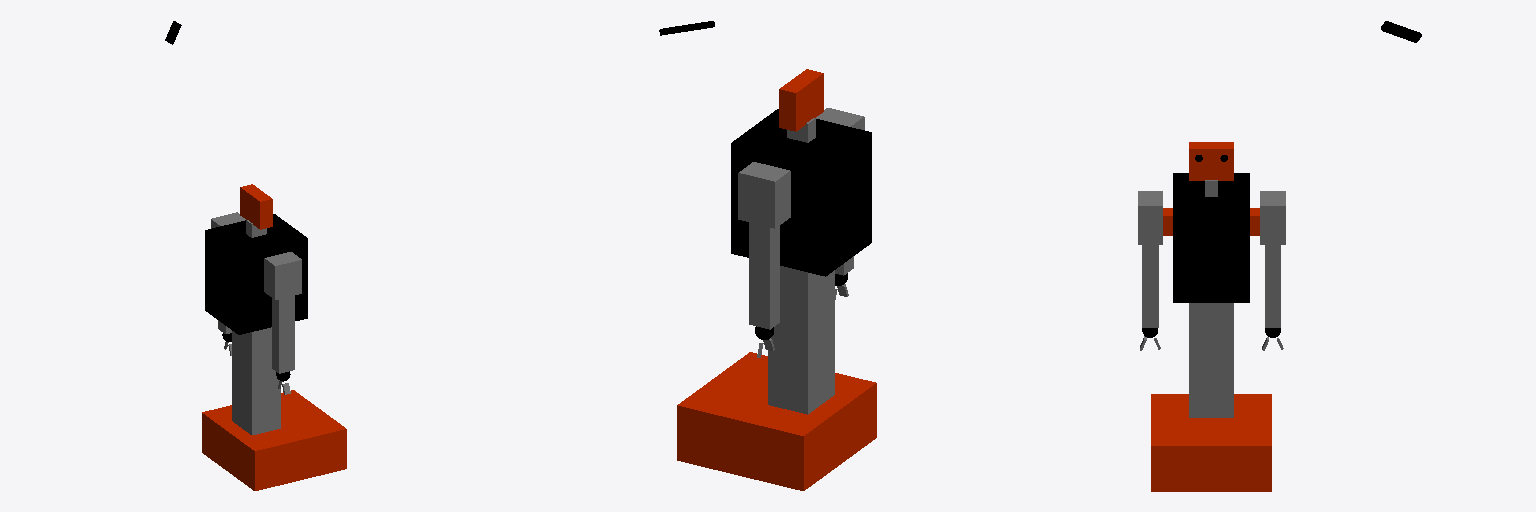
--- What the picture shows (computed from the rendered views, not written in the file) ---
3 views of the same robot in one strip: view 1: azimuth 30°, elevation 25°; view 2: azimuth 150°, elevation 25°; view 3: azimuth 270°, elevation 25° (orthographic).
Model tangy with 37 links and 36 joints (18 revolute, 18 fixed), rooted at base_link_robot, posed every joint at zero.
Links seen in each view (by area): view 1: base_link_robot, superior_link, base_torso, right_shoulder, head, lower_right_arm, upper_base_torso, upper_right_arm; view 2: base_link_robot, superior_link, base_torso, left_shoulder, head, lower_left_arm, upper_base_torso, upper_left_arm, right_shoulder; view 3: base_link_robot, superior_link, base_torso, head, left_shoulder, right_shoulder, upper_base_torso, lower_right_arm, lower_left_arm, upper_right_arm, upper_left_arm.
Link boxes in pixels (left/top/right/bottom): base_link_robot: left=202, top=390, right=346, bottom=490; superior_link: left=205, top=214, right=307, bottom=334; base_torso: left=232, top=341, right=280, bottom=434; right_shoulder: left=264, top=252, right=301, bottom=299; head: left=240, top=184, right=272, bottom=229; lower_right_arm: left=272, top=327, right=294, bottom=373; upper_base_torso: left=232, top=327, right=271, bottom=354; upper_right_arm: left=272, top=296, right=294, bottom=331; base_link_robot: left=677, top=352, right=876, bottom=490; superior_link: left=731, top=109, right=871, bottom=276; base_torso: left=768, top=285, right=834, bottom=414; left_shoulder: left=738, top=162, right=790, bottom=228; head: left=779, top=69, right=823, bottom=131; lower_left_arm: left=749, top=265, right=779, bottom=329; upper_base_torso: left=780, top=266, right=834, bottom=303; upper_left_arm: left=749, top=222, right=779, bottom=271; right_shoulder: left=816, top=108, right=864, bottom=129; base_link_robot: left=1151, top=394, right=1271, bottom=491; superior_link: left=1173, top=173, right=1249, bottom=302; base_torso: left=1189, top=326, right=1233, bottom=417; head: left=1189, top=142, right=1233, bottom=180; left_shoulder: left=1260, top=191, right=1285, bottom=244; right_shoulder: left=1138, top=191, right=1162, bottom=244; upper_base_torso: left=1189, top=303, right=1233, bottom=325; lower_right_arm: left=1142, top=280, right=1158, bottom=327; lower_left_arm: left=1265, top=280, right=1280, bottom=327; upper_right_arm: left=1142, top=245, right=1158, bottom=279; upper_left_arm: left=1265, top=245, right=1280, bottom=279.
Size in the robot's own frame: 0.513 by 1.13 by 1.87 metres.
Geometry: primitives only (box / cylinder / sphere), no mesh files.

The robot description file, URDF, robot "tangy":
<?xml version="1.0" ?>
<!-- =================================================================================== -->
<!-- |    This document was autogenerated by xacro from [local-path]/Documents/TangerineModel.urdf.xacro | -->
<!-- |    EDITING THIS FILE BY HAND IS NOT RECOMMENDED                                 | -->
<!-- =================================================================================== -->
<robot name="tangy" xmlns:xacro="http://www.ros.org/wiki/xacro" xmlns:controller="http://playerstage.sourceforge.net/gazebo/xmlschema/#controller" >
  <!-- .......................MACROS.................... -->
  <!-- ....................... END MACROS.................... -->
  <!--.................ROS_CONTROL PLUGIN........... -->
  <gazebo>
    <plugin name="gazebo_ros_control" filename="libgazebo_ros_control.so">
      <robotNamespace></robotNamespace>
      <robotSimType>gazebo_ros_control/DefaultRobotHWSim</robotSimType>
    </plugin>
  </gazebo>
  
  <!-- ................BASE................. -->
<!--  <link name="root_frame_dummy">
    <visual>
      <geometry>
        <box size="0 0 0"/>
      </geometry>
    </visual>
    <inertial>
      <mass value="0.001"/>
      <inertia ixx="0.00001" ixy="0" ixz="0" iyy="0.00001" iyz="0" izz="0.00001"/>
    </inertial>
    <origin xyz="0 0 0"/>
  </link>
  <joint name="root_frame_to_base_torso" type="planar">
    <limit effort="1000.0" lower="0" upper="0" velocity="0"/>
    <parent link="root_frame_dummy"/>
    <child link="base_link_robot"/>
    <origin xyz="0 0 .1"/>
  </joint>-->
  <link name="base_link_robot">
    <visual>
      <geometry>
        <box size="0.48 0.48 0.2"/>
      </geometry>
      <material name="orange">
        <color rgba=".8 .2 0 1"/>
      </material>
    </visual>
    <collision>
      <geometry>
        <cylinder length="0.18" radius="0.2"/>
      </geometry>
    </collision>
    <inertial>
      <mass value="25"/>
      <inertia ixx="1" ixy="0.0" ixz="0.0" iyy="1" iyz="0.0" izz="1"/>
    </inertial>
    <origin xyz="0 0 0"/>
  </link>
  <gazebo reference="base_link">
    <material>Gazebo/Red</material>
  </gazebo>
  <joint name="base_link_to_torso" type="fixed">
    <axis xyz="1 0 0"/>
    <limit effort="1000.0" lower="0" upper="0" velocity="0"/>
    <parent link="base_link_robot"/>
    <child link="base_torso"/>
    <origin xyz="-0.093 0 0.3"/>
  </joint>
  <link name="base_torso">
    <visual>
      <geometry>
        <box size="0.176 0.15 0.4"/>
      </geometry>
      <material name="grey">
        <color rgba="0.5 0.5 0.5 1"/>
      </material>
      <origin rpy="0 0 1.57075"/>
    </visual>
    <collision>
      <geometry>
        <cylinder length="0.38" radius="0.074"/>
      </geometry>
    </collision>
    <inertial>
      <mass value="15"/>
      <inertia ixx="1" ixy="0.0" ixz="0.0" iyy="1" iyz="0.0" izz="1"/>
    </inertial>
  </link>
  <gazebo reference="base_torso">
    <material>Gazebo/Red</material>
  </gazebo>
  <link name="upper_base_torso">
    <visual>
      <geometry>
        <box size="0.176 0.15 0.15"/>
      </geometry>
      <material name="grey"/>
    </visual>
    <collision>
      <geometry>
        <cylinder length="0.14" radius="0.074"/>
      </geometry>
    </collision>
    <inertial>
      <mass value="10"/>
      <inertia ixx="1.0" ixy="0.0" ixz="0.0" iyy="1.0" iyz="0.0" izz="1"/>
    </inertial>
  </link>
  <gazebo reference="upper_base_torso">
    <material>Gazebo/Gray</material>
  </gazebo>
  <joint name="torso_to_upper_base" type="fixed">
    <limit effort="1000.0" lower="0" upper="0" velocity="0"/>
    <parent link="base_torso"/>
    <child link="upper_base_torso"/>
    <origin rpy="0 0 -1.57075" xyz="0 0 0.275"/>
  </joint>
  <link name="superior_link">
    <visual>
      <geometry>
        <box size="0.305 0.360 0.4"/>
      </geometry>
      <material name="black">
        <color rgba="0 0 0 1"/>
      </material>
    </visual>
    <collision>
      <geometry>
        <cylinder length="0.38" radius="0.15"/>
      </geometry>
    </collision>
    <inertial>
      <mass value="10"/>
      <inertia ixx=".5" ixy="0.0" ixz="0.0" iyy=".5" iyz="0.0" izz=".5"/>
    </inertial>
  </link>
  <gazebo reference="superior_link">
    <material>Gazebo/Black</material>
  </gazebo>
  <joint name="upper_base_to_superior_link" type="fixed">
    <limit effort="1000.0" lower="0" upper="0" velocity="0"/>
    <parent link="upper_base_torso"/>
    <child link="superior_link"/>
    <origin xyz="0 0 0.275"/>
  </joint>
  <joint name="kinect_joint" type="fixed">
    <limit effort="1000.0" lower="0" upper="0" velocity="0"/>
    <parent link="superior_link"/>
    <child link="kinect"/>
    <origin rpy="-2.094394325 0 -0.698131701" xyz="-0.75 0 0.9"/>
  </joint>  
  <link name="kinect">
    <visual>
      <geometry>
        <box size="0.18 0.02 0.04"/>
      </geometry>
      <material name="grey">
        <color rgba="0 0 0 0.5"/>
      </material>
    </visual>
    <collision>
      <geometry>
        <box size="0.0001 0.0001 0.0001"/>
      </geometry>
    </collision>
    <inertial>
      <mass value="0.01"/>
      <inertia ixx=".0001" ixy="0.0" ixz="0.0" iyy=".0001" iyz="0.0" izz=".0001"/>
    </inertial>
  </link>
  <joint name="kinect_depth_joint" type="fixed">
    <limit effort="1000.0" lower="0" upper="0" velocity="0"/>
    <parent link="kinect"/>
    <child link="kinect_depth_frame"/>
    <origin rpy="0 0 0.104719755" xyz="0 0.01 0"/>  
  </joint>
  <link name="kinect_depth_frame" >
    <visual>
      <geometry>
        <box size="0.0001 0.0001 0.0001"/>
      </geometry>
      <material name="grey">
        <color rgba="0 0 0 0.5"/>
      </material>
    </visual>
    <collision>
      <geometry>
        <box size="0.0001 0.0001 0.0001"/>
      </geometry>
    </collision>
    <inertial>
      <mass value="0.01"/>
      <inertia ixx=".0001" ixy="0.0" ixz="0.0" iyy=".0001" iyz="0.0" izz=".0001"/>
    </inertial>
  </link>
  <joint name="kinect_optical_joint" type="fixed">
    <origin rpy="0 0.0 0" xyz="0 0.001 0"/>    
    <parent link="kinect_depth_frame"/>
    <child link="kinect_optical_frame"/>
  </joint>
  <link name="kinect_optical_frame" >
    <visual>
      <geometry>
        <box size="0.0001 0.0001 0.0001"/>
      </geometry>
      <material name="grey">
        <color rgba="0 0 0 0.5"/>
      </material>
    </visual>
    <collision>
      <geometry>
        <box size="0.0001 0.0001 0.0001"/>
      </geometry>
    </collision>
    <inertial>
      <mass value="0.01"/>
      <inertia ixx=".0001" ixy="0.0" ixz="0.0" iyy=".0001" iyz="0.0" izz=".0001"/>
    </inertial>
  </link>
    <gazebo reference="skeleton/openni_depth_frame">
    <sensor name="kinect_optical_frame" type="depth">
      <always_on>true</always_on>
      <update_rate>20</update_rate>
      <camera>
        <horizontal_fov>1.047</horizontal_fov>
        <image>
          <format>R8G8B8</format>
          <width>200</width>
          <height>200</height>
        </image>
        <clip>
          <near>0.5</near>
          <far>5</far>
        </clip>
      </camera>
      <plugin filename="libgazebo_ros_openni_kinect.so" name="skeleton/openni_depth_frame_rgb_link_controller">
        <alwaysOn>true</alwaysOn>
        <updateRate>20</updateRate>
        <cameraName>kinect</cameraName>
        <imageTopicName>/kinect_depth_frame/rgb/image_raw</imageTopicName>
        <cameraInfoTopicName>/kinect_depth_frame/rgb/camera_info</cameraInfoTopicName>
        <pointCloudTopicName>/kinect_depth_frame/depth_registered/points</pointCloudTopicName>
        <depthImageTopicName>/kinect_depth_frame/depth_registered/image</depthImageTopicName>
        <depthImageCameraInfoTopicName>kinect_depth_frame/depth_registered/camera_info</depthImageCameraInfoTopicName>
        <frameName>/kinect_optical_frame</frameName>
        <pointCloudCutoff>0.05</pointCloudCutoff>
        <hackBaseline>0.07</hackBaseline>
        <distortionK1>0.0</distortionK1>
        <distortionK2>0.0</distortionK2>
        <distortionK3>0.0</distortionK3>
        <distortionT1>0.0</distortionT1>
        <distortionT2>0.0</distortionT2>
      </plugin>
    </sensor>
    <material value="Gazebo/Red"/>
  </gazebo> 
  <!-- ................END BASE................. -->
  <!-- ................HEAD................. -->
  <link name="neck_link">
    <visual>
      <geometry>
        <box size="0.05 0.08 0.07"/>
      </geometry>
      <material name="grey"/>
    </visual>
    <collision>
      <geometry>
        <cylinder length="0.068" radius="0.024"/>
      </geometry>
    </collision>
    <inertial>
      <mass value="0.5"/>
      <inertia ixx=".0001" ixy="0.0" ixz="0.0" iyy=".0001" iyz="0.0" izz=".0001"/>
    </inertial>
  </link>
  <gazebo reference="neck_link">
    <material>Gazebo/Red</material>
  </gazebo>
  <joint name="superior_to_neck_link" type="fixed">
    <limit effort="1000.0" lower="0" upper="0" velocity="0"/>
    <parent link="superior_link"/>
    <child link="neck_link"/>
    <origin xyz="0 0 0.235"/>
  </joint>
  <link name="neck_z_revolute">
    <collision>
      <geometry>
        <cylinder length="0.01" radius="0.01"/>
      </geometry>
    </collision>
    <inertial>
      <mass value="0.01"/>
      <inertia ixx=".00001" ixy="0" ixz="0.0" iyy=".00001" iyz="0.0" izz=".00001"/>
    </inertial>
  </link>
  <joint name="neck_to_z_revolute" type="revolute">
    <axis xyz="0 0 1"/>
    <limit effort="10.0" lower="-0.7853" upper="0.7853" velocity="3"/>
    <parent link="neck_link"/>
    <child link="neck_z_revolute"/>
    <dynamics damping="1" friction="1000"/>
  </joint>
  <transmission name="neck_to_z_revolute_trans">
    <type>transmission_interface/SimpleTransmission</type>
    <joint name="neck_to_z_revolute"/>
    <actuator name="neck_to_z_revolute_motor">
      <hardwareInterface>EffortJointInterface</hardwareInterface>
      <mechanicalReduction>50</mechanicalReduction>
    </actuator>
  </transmission>
  <link name="neck_x_revolute">
    <collision>
      <geometry>
        <cylinder length="0.001" radius="0.001"/>
      </geometry>
    </collision>
    <inertial>
      <mass value="0.01"/>
      <inertia ixx=".00001" ixy="0.0" ixz="0.0" iyy=".00001" iyz="0.0" izz=".00001"/>
    </inertial>
  </link>
  <joint name="z_revolute_to_x_revolute" type="revolute">
    <axis xyz="1 0 0"/>
    <limit effort="10.0" lower="-0.3926" upper="0.3926" velocity="3"/>
    <parent link="neck_z_revolute"/>
    <child link="neck_x_revolute"/>
    <dynamics damping="1" friction="1000"/>
  </joint>
  <transmission name="z_revolute_to_x_revolute_trans">
    <type>transmission_interface/SimpleTransmission</type>
    <joint name="z_revolute_to_x_revolute"/>
    <actuator name="z_revolute_to_x_revolute_motor">
      <hardwareInterface>EffortJointInterface</hardwareInterface>
      <mechanicalReduction>50</mechanicalReduction>
    </actuator>
  </transmission>
  <link name="head">
    <visual>
      <geometry>
        <box size="0.18 0.065 0.14"/>
      </geometry>
      <material name="orange"/>
    </visual>
    <collision>
      <geometry>
        <box size="0.16 0.05 0.12"/>
      </geometry>
    </collision>
    <inertial>
      <mass value="2"/>
      <inertia ixx="0.03" ixy="0.0" ixz="0.0" iyy="0.08" iyz="0.0" izz="0.05"/>
    </inertial>
  </link>
  <gazebo reference="head">
    <material>Gazebo/Red</material>
  </gazebo>
  <joint name="revolute_head" type="fixed">
    <limit effort="1000.0" lower="0" upper="0" velocity="0"/>
    <parent link="neck_x_revolute"/>
    <child link="head"/>
    <origin xyz="0 0 0.1"/>
  </joint>
  <link name="right_eye">
    <visual>
      <geometry>
        <cylinder length="0.015" radius="0.015"/>
      </geometry>
      <material name="black"/>
      <origin rpy="-1.57075 0 0"/>
    </visual>
    <collision>
      <geometry>
        <cylinder length="0.013" radius="0.005"/>
      </geometry>
    </collision>
    <inertial>
      <mass value="0.2"/>
      <inertia ixx=".000001" ixy="0.0" ixz="0.0" iyy="0" iyz="0.0" izz=".000001"/>
    </inertial>
  </link>
  <joint name="right_eye_to_head" type="fixed">
    <limit effort="1000.0" lower="0" upper="0" velocity="0"/>
    <parent link="head"/>
    <child link="right_eye"/>
    <origin xyz="0.05 0.03 0.03"/>
  </joint>
  <link name="left_eye">
    <visual>
      <geometry>
        <cylinder length="0.015" radius="0.015"/>
      </geometry>
      <material name="black"/>
      <origin rpy="-1.57075 0 0"/>
    </visual>
    <collision>
      <geometry>
        <cylinder length="0.013" radius="0.005"/>
      </geometry>
    </collision>
    <inertial>
      <mass value="0.2"/>
      <inertia ixx=".000001" ixy="0.0" ixz="0.0" iyy="0" iyz="0.0" izz=".000001"/>
    </inertial>
  </link>
  <joint name="left_eye_to_head" type="fixed">
    <limit effort="1000.0" lower="0" upper="0" velocity="0"/>
    <parent link="head"/>
    <child link="left_eye"/>
    <origin xyz="-0.05 0.03 0.03"/>
  </joint> 
  <!-- ................END HEAD................. -->
  <!-- ................RIGHT ARM................. -->
  <link name="right_shoulder_link">
    <visual>
      <geometry>
        <box size="0.04 0.07 0.09"/>
      </geometry>
      <material name="orange"/>
    </visual>
    <collision>
      <geometry>
        <cylinder length="0.10" radius="0.035"/>
      </geometry>
    </collision>
    <inertial>
      <mass value=".5"/>
      <inertia ixx=".001" ixy="0.0" ixz="0.0" iyy=".001" iyz="0.0" izz=".0005"/>
    </inertial>
  </link>
  <gazebo reference="right_shoulder_link">
    <material>Gazebo/Gray</material>
  </gazebo>
  <joint name="superior_link_to_right_shoulder_link" type="fixed">
    <axis xyz="1 0 0"/>
    <limit effort="100.0" lower="-3.142" upper="3.142" velocity="1"/>
    <parent link="superior_link"/>
    <child link="right_shoulder_link"/>
    <origin xyz="0.1725 0 0.07"/>
    <dynamics damping="1.5" friction="1000"/>
  </joint>
  <link name="right_shoulder">
    <visual>
      <geometry>
        <box size="0.10 0.14 0.17"/>
      </geometry>
      <material name="grey"/>
    </visual>
    <collision>
      <geometry>
        <cylinder length="0.10" radius="0.04"/>
      </geometry>
    </collision>
    <inertial>
      <mass value="1"/>
      <inertia ixx=".001" ixy="0.0" ixz="0.0" iyy=".001" iyz="0.0" izz=".0008"/>
    </inertial>
  </link>
  <gazebo reference="right_shoulder">
    <material>Gazebo/Gray</material>
  </gazebo>
  <joint name="right_shoulder_x_revolute" type="revolute">
    <axis xyz="1 0 0"/>
    <limit effort="100" lower="-0.34907" upper="3.35103" velocity="3"/>
    <parent link="right_shoulder_link"/>
    <child link="right_shoulder"/>
    <origin xyz="0.07 0 0.02"/>
    <dynamics damping="1" friction="1000"/>
  </joint>
  <transmission name="right_shoulder_x_revolute_trans">
    <type>transmission_interface/SimpleTransmission</type>
    <joint name="right_shoulder_x_revolute"/>
    <actuator name="right_shoulder_x_revolute_motor">
      <hardwareInterface>EffortJointInterface</hardwareInterface>
      <mechanicalReduction>50</mechanicalReduction>
    </actuator>
  </transmission>
  <link name="upper_right_arm_z_revolute">
    <collision>
      <geometry>
        <cylinder length="0.01" radius="0.01"/>
      </geometry>
    </collision>
    <inertial>
      <mass value="0.01"/>
      <inertia ixx=".000001" ixy="0.0" ixz="0.0" iyy=".000001" iyz="0.0" izz=".000001"/>
    </inertial>
  </link>
  <joint name="upper_right_arm_z_revolute_joint" type="revolute">
    <axis xyz="0 0 -1"/>
    <limit effort="100" lower="-1.8326" upper="1.8326" velocity="3"/>
    <parent link="upper_right_arm_y_revolute"/>
    <child link="upper_right_arm_z_revolute"/>
    <origin xyz="0 0 0"/>
    <dynamics damping="1" friction="1000"/>
  </joint>
  <transmission name="upper_right_arm_z_revolute_joint_trans">
    <type>transmission_interface/SimpleTransmission</type>
    <joint name="upper_right_arm_z_revolute_joint"/>
    <actuator name="upper_right_arm_z_revolute_motor">
      <hardwareInterface>EffortJointInterface</hardwareInterface>
      <mechanicalReduction>50</mechanicalReduction>
    </actuator>
  </transmission>
  <link name="upper_right_arm_y_revolute">
    <collision>
      <geometry>
        <cylinder length="0.01" radius="0.01"/>
      </geometry>
    </collision>
    <inertial>
      <mass value="0.01"/>
      <inertia ixx=".000001" ixy="0.0" ixz="0.0" iyy=".000001" iyz="0.0" izz=".000001"/>
    </inertial>
  </link>
  <joint name="upper_right_arm_y_revolute_joint" type="revolute">
    <axis xyz="0 1 0"/>
    <limit effort="75.0" lower="-1.9199" upper="0.08727" velocity="3"/>
    <parent link="right_shoulder"/>
    <child link="upper_right_arm_y_revolute"/>
    <origin xyz="0 0 0"/>
    <dynamics damping="1" friction="1000"/>   
  </joint>
  <transmission name="upper_right_arm_y_revolute_joint_trans">
    <type>transmission_interface/SimpleTransmission</type>
    <joint name="upper_right_arm_y_revolute_joint"/>
    <actuator name="upper_right_arm_y_revolute_joint">
      <hardwareInterface>EffortJointInterface</hardwareInterface>
      <mechanicalReduction>50</mechanicalReduction>
    </actuator>
  </transmission>
  <link name="upper_right_arm">
    <visual>
      <geometry>
        <box size="0.065 0.08 0.17"/>
      </geometry>
      <material name="grey"/>
    </visual>
    <collision>
      <geometry>
        <cylinder length="0.10" radius="0.032"/>
      </geometry>
    </collision>
    <inertial>
      <mass value="1"/>
      <inertia ixx=".003" ixy="0.0" ixz="0.0" iyy=".003" iyz="0.0" izz=".001"/>
    </inertial>
  </link>
  <gazebo reference="upper_right_arm">
    <material>Gazebo/Gray</material>
  </gazebo>
  <joint name="shoulder_to_upper_right_arm" type="fixed">
    <parent link="upper_right_arm_z_revolute"/>
    <child link="upper_right_arm"/>
    <origin xyz="0 0 -0.17"/>
  </joint>
  <joint name="upper_to_lower_right_joint" type="revolute">
    <axis xyz="-1 0 0"/>
    <limit effort="50.0" lower="-2.2515" upper="1.5708" velocity="3"/>
    <parent link="upper_right_arm"/>
    <child link="lower_right_arm_y_revolute"/>
    <origin xyz="0 0 -.085"/>
    <dynamics damping="1" friction="1000"/>
  </joint>
  <transmission name="upper_to_lower_right_joint_trans">
    <type>transmission_interface/SimpleTransmission</type>
    <joint name="upper_to_lower_right_joint"/>
    <actuator name="upper_to_lower_right_joint_motor">
      <hardwareInterface>EffortJointInterface</hardwareInterface>
      <mechanicalReduction>50</mechanicalReduction>
    </actuator>
  </transmission>
  <link name="lower_right_arm_y_revolute">
    <collision>
      <geometry>
        <cylinder length="0.01" radius="0.01"/>
      </geometry>
    </collision>
    <inertial>
      <mass value="0.01"/>
      <inertia ixx=".000001" ixy="0.0" ixz="0.0" iyy=".000001" iyz="0.0" izz=".000001"/>
    </inertial>
    <origin xyz="0 0 0"/>
  </link>
  <joint name="lower_right_joint_to_lower_arm" type="fixed">
    <parent link="lower_right_arm_y_revolute"/>
    <child link="lower_right_arm"/>
    <origin xyz="0 0 -.105"/>
  </joint>
  <link name="lower_right_arm">
    <visual>
      <geometry>
        <box size="0.065 0.08 0.21"/>
      </geometry>
      <material name="grey"/>
    </visual>
    <collision>
      <geometry>
        <cylinder length="0.15" radius="0.032"/>
      </geometry>
    </collision>
    <inertial>
      <mass value="0.5"/>
      <inertia ixx=".002" ixy="0.0" ixz="0.0" iyy=".002" iyz="0.0" izz=".0005"/>
    </inertial>
  </link>
  <gazebo reference="lower_right_arm">
    <material>Gazebo/Gray</material>
  </gazebo>
  <link name="wrist_right_arm_z_revolute">
    <collision>
      <geometry>
        <cylinder length="0.01" radius="0.01"/>
      </geometry>
    </collision>
    <inertial>
      <mass value="0.01"/>
      <inertia ixx=".000001" ixy="0.0" ixz="0.0" iyy=".000001" iyz="0.0" izz=".000001"/>
    </inertial>
  </link>
  <joint name="wrist_right_arm_z_revolute_joint" type="revolute">
    <axis xyz="0 0 -1"/>
    <limit effort="25.0" lower="-1.5708" upper="1.5708" velocity="2"/>
    <parent link="lower_right_arm"/>
    <child link="wrist_right_arm_z_revolute"/>
    <dynamics damping="1" friction="1000"/>
  </joint>
  <transmission name="wrist_right_arm_z_revolute_joint_trans">
    <type>transmission_interface/SimpleTransmission</type>
    <joint name="wrist_right_arm_z_revolute_joint"/>
    <actuator name="wrist_right_arm_z_revolute_joint_motor">
      <hardwareInterface>EffortJointInterface</hardwareInterface>
      <mechanicalReduction>50</mechanicalReduction>
    </actuator>
  </transmission>
  <link name="wrist_right_arm_x_revolute">
    <collision>
      <geometry>
        <cylinder length="0.01" radius="0.01"/>
      </geometry>
    </collision>
    <inertial>
      <mass value="0.01"/>
      <inertia ixx=".000001" ixy="0.0" ixz="0.0" iyy=".000001" iyz="0.0" izz=".000001"/>
    </inertial>
  </link>
  <joint name="wrist_right_arm_x_revolute_joint" type="fixed">
    <parent link="wrist_right_arm_z_revolute"/>
    <child link="wrist_right_arm_x_revolute"/>
  </joint>
  <link name="wrist_right_arm">
    <visual>
      <geometry>
        <sphere radius="0.0325"/>
      </geometry>
      <material name="black"/>
    </visual>
    <collision>
      <geometry>
        <sphere radius="0.02"/>
      </geometry>
    </collision>
    <inertial>
      <mass value="0.25"/>
      <inertia ixx=".00003" ixy="0.0" ixz="0.0" iyy="0" iyz="0.0" izz=".00003"/>
    </inertial>
  </link>
  <gazebo reference="wrist_right_arm">
    <material>Gazebo/Black</material>
  </gazebo>
  <joint name="lower_to_wrist_right_arm" type="revolute">
    <axis xyz="0 1 0"/>
    <limit effort="50" lower="-1.0472" upper="1.48353" velocity="3"/>
    <parent link="wrist_right_arm_x_revolute"/>
    <child link="wrist_right_arm"/>
    <origin xyz="0 0 -0.13"/>
    <dynamics damping=".1" friction="1000"/>
  </joint>
  <transmission name="lower_to_wrist_right_arm_trans">
    <type>transmission_interface/SimpleTransmission</type>
    <joint name="lower_to_wrist_right_arm"/>
    <actuator name="lower_to_wrist_right_arm_motor">
      <hardwareInterface>EffortJointInterface</hardwareInterface>
      <mechanicalReduction>50</mechanicalReduction>
    </actuator>
  </transmission>
  <link name="finger1_right_arm">
    <visual>
      <geometry>
        <box size="0.01 0.01 0.05"/>
      </geometry>
      <origin xyz="0 0 -0.025"/>
      <material name="grey"/>
    </visual>
    <collision>
      <geometry>
        <cylinder length="0.02" radius="0.004"/>
      </geometry>
    </collision>
    <inertial>
      <mass value="0.1"/>
      <inertia ixx=".000001" ixy="0.0" ixz="0.0" iyy="0" iyz="0.0" izz=".000001"/>
    </inertial>
    <dynamics damping="0.7" friction="1000.0"/>
  </link>
  <gazebo reference="finger1_right_arm">
    <material>Gazebo/Gray</material>
  </gazebo>
  <joint name="wrist_to_finger1_right_arm" type="revolute">
    <axis xyz="0 1 0"/>
    <limit effort="50" lower="0" upper="-0.68" velocity="3"/>
    <parent link="wrist_right_arm"/>
    <child link="finger1_right_arm"/>
    <origin rpy="0 0.3926875 0" xyz="-0.01875 0 -0.0375"/>
  </joint>
  <transmission name="wrist_to_finger1_right_arm_trans">
    <type>transmission_interface/SimpleTransmission</type>
    <joint name="wrist_to_finger1_right_arm"/>
    <actuator name="wrist_to_finger1_right_arm_motor">
      <hardwareInterface>EffortJointInterface</hardwareInterface>
      <mechanicalReduction>50</mechanicalReduction>
    </actuator>
  </transmission>
  <link name="finger2_right_arm">
    <visual>
      <geometry>
        <box size="0.01 0.03 0.05"/>
      </geometry>
      <origin xyz="0 0 -0.025"/>
      <material name="grey"/>
    </visual>
    <collision>
      <geometry>
        <cylinder length="0.02" radius="0.004"/>
      </geometry>
    </collision>
    <inertial>
      <mass value="0.1"/>
      <inertia ixx=".000001" ixy="0.0" ixz="0.0" iyy="0" iyz="0.0" izz=".000001"/>
    </inertial>
    <dynamics damping="0.7" friction="1000.0"/>
  </link>
  <gazebo reference="finger2_right_arm">
    <material>Gazebo/Gray</material>
  </gazebo>
  <joint name="wrist_to_finger2_right_arm" type="revolute">
    <axis xyz="0 1 0"/>
    <limit effort="50" lower="0.68" upper="0" velocity="3"/>
    <parent link="wrist_right_arm"/>
    <child link="finger2_right_arm"/>
    <origin rpy="0 -0.3926875 0" xyz="0.01875 0 -0.0375"/> 
  </joint>
  <transmission name="wrist_to_finger2_right_arm_trans">
    <type>transmission_interface/SimpleTransmission</type>
    <joint name="wrist_to_finger2_right_arm"/>
    <actuator name="wrist_to_finger2_right_arm_motor">
      <hardwareInterface>EffortJointInterface</hardwareInterface>
      <mechanicalReduction>50</mechanicalReduction>
    </actuator>
  </transmission>
  <!-- ................END RIGHT ARM................. -->
  <!-- ................LEFT ARM................. -->
  <link name="left_shoulder_link">
    <visual>
      <geometry>
        <box size="0.04 0.07 0.09"/>
      </geometry>
      <material name="orange"/>
    </visual>
    <collision>
      <geometry>
        <cylinder length="0.10" radius="0.035"/>
      </geometry>
    </collision>
    <inertial>
      <mass value=".5"/>
      <inertia ixx=".001" ixy="0.0" ixz="0.0" iyy=".001" iyz="0.0" izz=".0005"/>
    </inertial>
  </link>
  <gazebo reference="left_shoulder_link">
    <material>Gazebo/Gray</material>
  </gazebo>
  <joint name="superior_link_to_left_shoulder_link" type="fixed">
    <axis xyz="1 0 0"/>
    <limit effort="100.0" lower="-0.785375" upper="1.57075" velocity="3"/>
    <parent link="superior_link"/>
    <child link="left_shoulder_link"/>
    <origin xyz="-0.1725 0 0.07"/>
    <dynamics damping="1.5" friction="1000"/>
  </joint>
  <link name="left_shoulder">
    <visual>
      <geometry>
        <box size="0.10 0.14 0.17"/>
      </geometry>
      <material name="grey"/>
    </visual>
    <collision>
      <geometry>
        <cylinder length="0.10" radius="0.04"/>
      </geometry>
    </collision>
    <inertial>
      <mass value="1"/>
      <inertia ixx=".001" ixy="0.0" ixz="0.0" iyy=".001" iyz="0.0" izz=".0008"/>
    </inertial>
  </link>
  <gazebo reference="left_shoulder">
    <material>Gazebo/Gray</material>
  </gazebo>
  <joint name="left_shoulder_x_revolute" type="revolute">
    <axis xyz="1 0 0"/>
    <limit effort="100" lower="-0.34907" upper="3.35103" velocity="3"/>
    <parent link="left_shoulder_link"/>
    <child link="left_shoulder"/>
    <origin xyz="-0.07 0 0.02"/>
    <dynamics damping="1" friction="1000"/>
  </joint>
  <transmission name="left_shoulder_x_revolute_trans">
    <type>transmission_interface/SimpleTransmission</type>
    <joint name="left_shoulder_x_revolute"/>
    <actuator name="left_shoulder_x_revolute_motor">
      <hardwareInterface>EffortJointInterface</hardwareInterface>
      <mechanicalReduction>50</mechanicalReduction>
    </actuator>
  </transmission>
  <link name="upper_left_arm_z_revolute">
    <collision>
      <geometry>
        <cylinder length="0.01" radius="0.01"/>
      </geometry>
    </collision>
    <inertial>
      <mass value="0.01"/>
      <inertia ixx=".000001" ixy="0.0" ixz="0.0" iyy=".000001" iyz="0.0" izz=".000001"/>
    </inertial>
  </link>
  <joint name="upper_left_arm_z_revolute_joint" type="revolute">
    <axis xyz="0 0 1"/>
    <limit effort="100" lower="-1.8326" upper="1.8326" velocity="3"/>
    <parent link="upper_left_arm_y_revolute"/>
    <child link="upper_left_arm_z_revolute"/>
    <origin xyz="0 0 0"/>
    <dynamics damping="1" friction="1000"/>
  </joint>
  <transmission name="upper_left_arm_z_revolute_joint_trans">
    <type>transmission_interface/SimpleTransmission</type>
    <joint name="upper_left_arm_z_revolute_joint"/>
    <actuator name="upper_left_arm_z_revolute_joint_motor">
      <hardwareInterface>EffortJointInterface</hardwareInterface>
      <mechanicalReduction>50</mechanicalReduction>
    </actuator>
  </transmission>
  <link name="upper_left_arm_y_revolute">
    <collision>
      <geometry>
        <cylinder length="0.01" radius="0.01"/>
      </geometry>
    </collision>
    <inertial>
      <mass value="0.01"/>
      <inertia ixx=".000001" ixy="0.0" ixz="0.0" iyy=".000001" iyz="0.0" izz=".000001"/>
    </inertial>
  </link>
  <joint name="upper_left_arm_y_revolute_joint" type="revolute">
    <axis xyz="0 -1 0"/>
    <limit effort="75.0" lower="-1.9198" upper="0.08727" velocity="3"/>
    <parent link="left_shoulder"/>
    <child link="upper_left_arm_y_revolute"/>
    <origin xyz="0 0 0"/>
    <dynamics damping="1" friction="1000"/>   
  </joint>
  <transmission name="upper_left_arm_y_revolute_joint_trans">
    <type>transmission_interface/SimpleTransmission</type>
    <joint name="upper_left_arm_y_revolute_joint"/>
    <actuator name="upper_left_arm_y_revolute_joint_motor">
      <hardwareInterface>EffortJointInterface</hardwareInterface>
      <mechanicalReduction>50</mechanicalReduction>
    </actuator>
  </transmission>
  <link name="upper_left_arm">
    <visual>
      <geometry>
        <box size="0.065 0.08 0.17"/>
      </geometry>
      <material name="grey"/>
    </visual>
    <collision>
      <geometry>
        <cylinder length="0.1" radius="0.032"/>
      </geometry>
    </collision>
    <inertial>
      <mass value="1"/>
      <inertia ixx=".003" ixy="0.0" ixz="0.0" iyy=".003" iyz="0.0" izz=".001"/>
    </inertial>
  </link>
  <gazebo reference="upper_left_arm">
    <material>Gazebo/Gray</material>
  </gazebo>
  <joint name="shoulder_to_upper_left_arm" type="fixed">
    <parent link="upper_left_arm_z_revolute"/>
    <child link="upper_left_arm"/>
    <origin xyz="0 0 -0.17"/>
  </joint>
  <joint name="upper_to_lower_left_joint" type="revolute">
    <axis xyz="-1 0 0"/>
    <limit effort="50.0" lower="-2.2515" upper="1.5708" velocity="3"/>
    <parent link="upper_left_arm"/>
    <child link="lower_left_arm_y_revolute"/>
    <origin xyz="0 0 -.085"/>
    <dynamics damping="1" friction="1000"/>
  </joint>
  <transmission name="upper_to_lower_left_joint_trans">
    <type>transmission_interface/SimpleTransmission</type>
    <joint name="upper_to_lower_left_joint"/>
    <actuator name="upper_to_lower_left_joint_motor">
      <hardwareInterface>EffortJointInterface</hardwareInterface>
      <mechanicalReduction>50</mechanicalReduction>
    </actuator>
  </transmission>
  <link name="lower_left_arm_y_revolute">
    <collision>
      <geometry>
        <cylinder length="0.01" radius="0.01"/>
      </geometry>
    </collision>
    <inertial>
      <mass value="0.01"/>
      <inertia ixx=".000001" ixy="0.0" ixz="0.0" iyy=".000001" iyz="0.0" izz=".000001"/>
    </inertial>
    <origin xyz="0 0 0"/>
  </link>
  <joint name="lower_left_joint_to_lower_arm" type="fixed">
    <parent link="lower_left_arm_y_revolute"/>
    <child link="lower_left_arm"/>
    <origin xyz="0 0 -.105"/>
  </joint>
  <link name="lower_left_arm">
    <visual>
      <geometry>
        <box size="0.065 0.08 0.21"/>
      </geometry>
      <material name="grey"/>
    </visual>
    <collision>
      <geometry>
        <cylinder length="0.15" radius="0.032"/>
      </geometry>
    </collision>
    <inertial>
      <mass value="0.5"/>
      <inertia ixx=".002" ixy="0.0" ixz="0.0" iyy=".002" iyz="0.0" izz=".0005"/>
    </inertial>
  </link>
  <gazebo reference="lower_left_arm">
    <material>Gazebo/Gray</material>
  </gazebo>
  <link name="wrist_left_arm_z_revolute">
    <collision>
      <geometry>
        <cylinder length="0.01" radius="0.01"/>
      </geometry>
    </collision>
    <inertial>
      <mass value="0.01"/>
      <inertia ixx=".000001" ixy="0.0" ixz="0.0" iyy=".000001" iyz="0.0" izz=".000001"/>
    </inertial>
  </link>
  <joint name="wrist_left_arm_z_revolute_joint" type="revolute">
    <axis xyz="0 0 1"/>
    <limit effort="25.0" lower="-1.5708" upper="1.5708" velocity="2"/>
    <parent link="lower_left_arm"/>
    <child link="wrist_left_arm_z_revolute"/>
    <dynamics damping="1" friction="1000"/>
  </joint>
  <transmission name="wrist_left_arm_z_revolute_joint_trans">
    <type>transmission_interface/SimpleTransmission</type>
    <joint name="wrist_left_arm_z_revolute_joint"/>
    <actuator name="wrist_left_arm_z_revolute_joint_motor">
      <hardwareInterface>EffortJointInterface</hardwareInterface>
      <mechanicalReduction>50</mechanicalReduction>
    </actuator>
  </transmission>
  <link name="wrist_left_arm_x_revolute">
    <collision>
      <geometry>
        <cylinder length="0.01" radius="0.01"/>
      </geometry>
    </collision>
    <inertial>
      <mass value="0.01"/>
      <inertia ixx=".000001" ixy="0.0" ixz="0.0" iyy=".000001" iyz="0.0" izz=".000001"/>
    </inertial>
  </link>
  <joint name="wrist_left_arm_x_revolute_joint" type="fixed">
    <parent link="wrist_left_arm_z_revolute"/>
    <child link="wrist_left_arm_x_revolute"/>
  </joint>
  <link name="wrist_left_arm">
    <visual>
      <geometry>
        <sphere radius="0.0325"/>
      </geometry>
      <material name="black"/>
    </visual>
    <collision>
      <geometry>
        <sphere radius="0.02"/>
      </geometry>
    </collision>
    <inertial>
      <mass value="0.25"/>
      <inertia ixx=".00003" ixy="0.0" ixz="0.0" iyy="0" iyz="0.0" izz=".00003"/>
    </inertial>
  </link>
  <gazebo reference="wrist_left_arm">
    <material>Gazebo/Black</material>
  </gazebo>
  <joint name="lower_to_wrist_left_arm" type="revolute">
    <axis xyz="0 -1 0"/>
    <limit effort="50" lower="-1.0472" upper="1.48353" velocity="3"/>
    <parent link="wrist_left_arm_x_revolute"/>
    <child link="wrist_left_arm"/>
    <origin xyz="0 0 -0.13"/>
    <dynamics damping=".1" friction="1000"/>
  </joint>
  <transmission name="lower_to_wrist_left_arm_trans">
    <type>transmission_interface/SimpleTransmission</type>
    <joint name="lower_to_wrist_left_arm"/>
    <actuator name="left_to_wrist_left_arm_motor">
      <hardwareInterface>EffortJointInterface</hardwareInterface>
      <mechanicalReduction>50</mechanicalReduction>
    </actuator>
  </transmission>
  <link name="finger1_left_arm">
    <visual>
      <geometry>
        <box size="0.01 0.01 0.05"/>
      </geometry>
      <origin xyz="0 0 -0.025"/>
      <material name="grey"/>
    </visual>
    <collision>
      <geometry>
        <cylinder length="0.02" radius="0.004"/>
      </geometry>
    </collision>
    <inertial>
      <mass value="0.1"/>
      <inertia ixx=".000001" ixy="0.0" ixz="0.0" iyy="0" iyz="0.0" izz=".000001"/>
    </inertial>
    <dynamics damping="0.7" friction="1000.0"/>
  </link>
  <gazebo reference="finger1_left_arm">
    <material>Gazebo/Gray</material>
  </gazebo>
  <joint name="wrist_to_finger1_left_arm" type="revolute">
    <axis xyz="0 1 0"/>
    <limit effort="50" lower="0" upper="-0.68" velocity="3"/>
    <parent link="wrist_left_arm"/>
    <child link="finger1_left_arm"/>
    <origin rpy="0 0.3926875 0" xyz="-0.01875 0 -0.0375"/>
  </joint>
  <transmission name="wrist_to_finger1_left_arm_trans">
    <type>transmission_interface/SimpleTransmission</type>
    <joint name="wrist_to_finger1_left_arm"/>
    <actuator name="wrist_to_finger1_left_arm_motor">
      <hardwareInterface>EffortJointInterface</hardwareInterface>
      <mechanicalReduction>50</mechanicalReduction>
    </actuator>
  </transmission>
  <link name="finger2_left_arm">
    <visual>
      <geometry>
        <box size="0.01 0.03 0.05"/>
      </geometry>
      <origin xyz="0 0 -0.025"/>
      <material name="grey"/>
    </visual>
    <collision>
      <geometry>
        <cylinder length="0.02" radius="0.004"/>
      </geometry>
    </collision>
    <inertial>
      <mass value="0.1"/>
      <inertia ixx=".000001" ixy="0.0" ixz="0.0" iyy="0" iyz="0.0" izz=".000001"/>
    </inertial>
    <dynamics damping="0.7" friction="1000.0"/>
  </link>
  <gazebo reference="finger2_left_arm">
    <material>Gazebo/Gray</material>
  </gazebo>
  <joint name="wrist_to_finger2_left_arm" type="revolute">
    <axis xyz="0 1 0"/>
    <limit effort="50" lower="0.68" upper="0" velocity="3"/>
    <parent link="wrist_left_arm"/>
    <child link="finger2_left_arm"/>
    <origin rpy="0 -0.3926875 0" xyz="0.01875 0 -0.0375"/>
  </joint> 
  <transmission name="wrist_to_finger2_left_arm_trans">
    <type>transmission_interface/SimpleTransmission</type>
    <joint name="wrist_to_finger2_left_arm"/>
    <actuator name="wrist_to_finger2_left_arm_motor">
      <hardwareInterface>EffortJointInterface</hardwareInterface>
      <mechanicalReduction>50</mechanicalReduction>
    </actuator>
  </transmission>
  <!-- ................END LEFT ARM................. -->
  <!-- ................SENSORS...................... 
  <link name="laser_base">
    <visual>
      <geometry>
        <box size="0.02 0.03 0.04"/>
      </geometry>
      <material name="blue">
        <color rgba="0 0 1 .9"/>
      </material>
    </visual>
    <collision>
      <geometry>
        <cylinder length="0.001" radius="0.0001"/>
      </geometry>
    </collision>  
    <inertial>
      <mass value=".001"/>
      <inertia ixx=".000001" ixy="0.0" ixz="0.0" iyy=".000001" iyz="0.0" izz=".000001"/>
    </inertial>
  </link>
  <joint name="laser_base_to_torso" type="fixed">
    <parent link="base_torso"/>
    <child link="laser_base"/>
    <origin rpy="1.5708 0 0" xyz="0.09 0 .06"/>
  </joint>
  <joint name="laser_joint_to_base" type="revolute">
    <axis xyz="1 0 0"/>
    <limit effort="1000.0" lower="-.77" upper=".77" velocity="5"/>
    <parent link="laser_base"/>
    <child link="base_laser"/>
    <origin rpy="0 1.5708 0" xyz="0.025 0 0"/>
  </joint>
  <link name="base_laser">
    <visual>
      <geometry>
        <cylinder length="0.02" radius="0.03"/>
      </geometry>
      <material name="black">
        <color rgba="0 0 0 1"/>
      </material>
    </visual>
    <inertial>
      <mass value=".001"/>
      <inertia ixx=".000001" ixy="0.0" ixz="0.0" iyy=".000001" iyz="0.0" izz=".000001"/>
    </inertial>
    <collision>
      <geometry>
        <cylinder length="0.001" radius="0.0001"/>
      </geometry>
    </collision>
    <origin rpy="0 0 0"/>
  </link>-->

  <!-- ................END SENSORS.................. -->

</robot>
